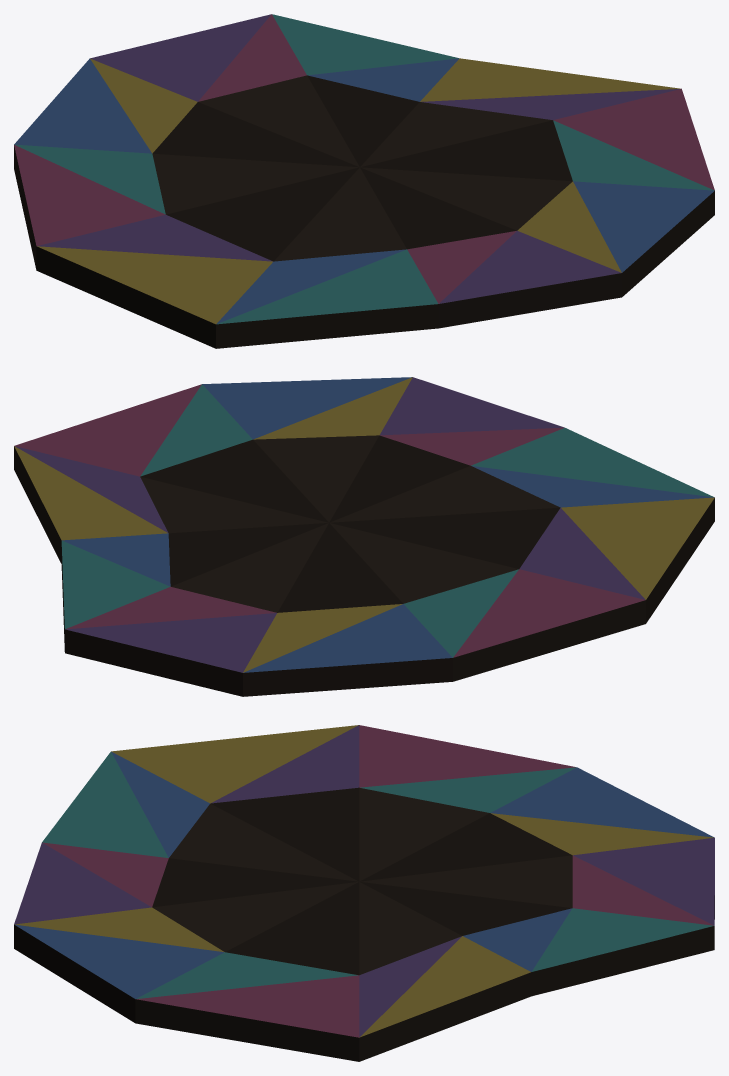
The model's file is trash-oil-1.glb.
3 renders of one model, top to bottom at view 1: azimuth 30°, elevation 25°; view 2: azimuth 150°, elevation 25°; view 3: azimuth 270°, elevation 25°, orthographic. The views are drawn at different scales.
Parts seen in each view (by area): view 1: trash-oil-1; view 2: trash-oil-1; view 3: trash-oil-1.
Part boxes in pixels (x1=…): trash-oil-1: x1=14, y1=14, x2=714, y2=348; trash-oil-1: x1=14, y1=377, x2=714, y2=696; trash-oil-1: x1=14, y1=725, x2=714, y2=1061.
Bounding box in the file's own units: 1.94 × 0.07 × 1.83.
